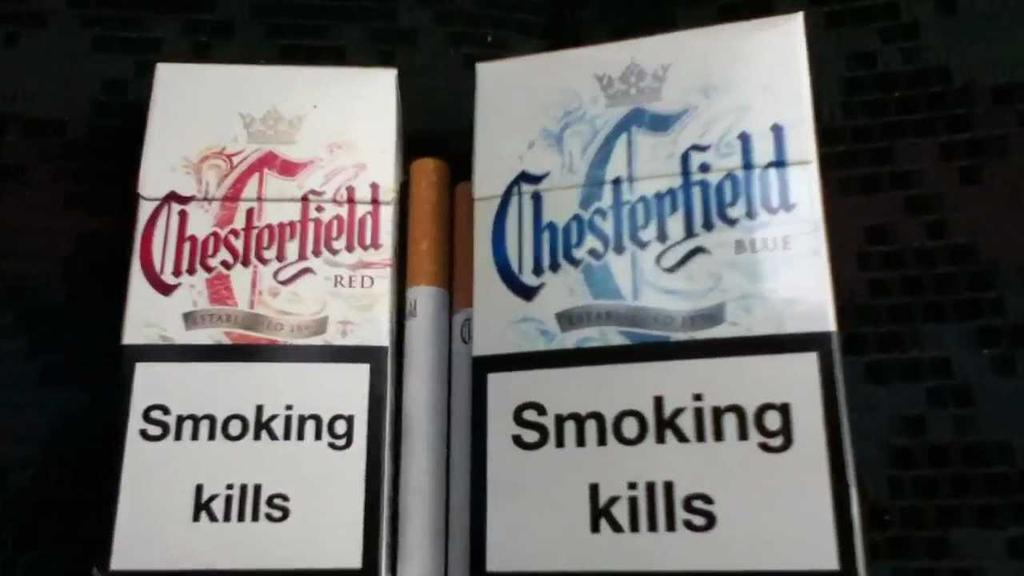chesterfield_blue: (477, 58, 812, 576)
chesterfield_red: (146, 65, 391, 568)
